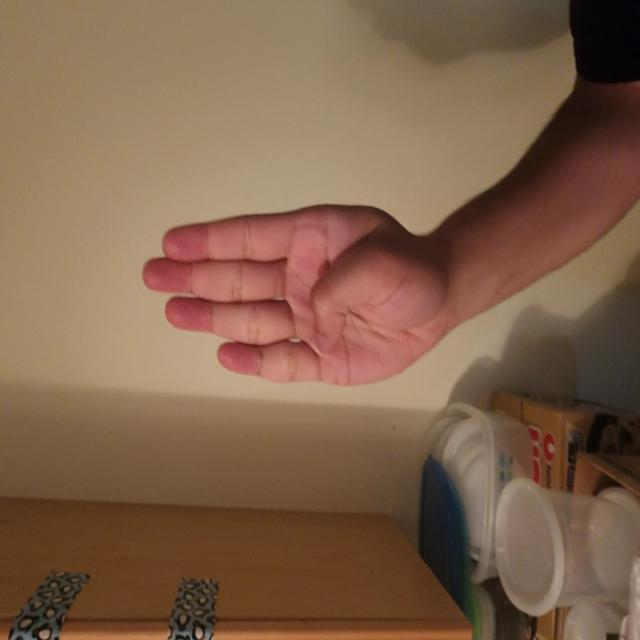B: (187, 182, 331, 614)
